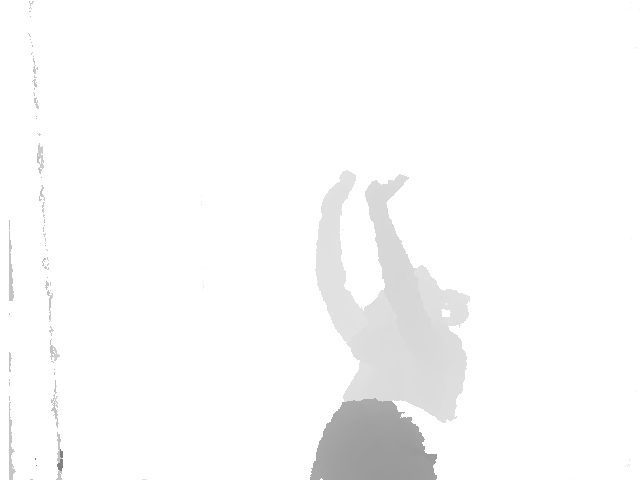hand: (318, 169, 356, 217), (365, 173, 408, 209)
head: (308, 397, 437, 480), (373, 263, 469, 332)
person: (312, 169, 475, 423)
